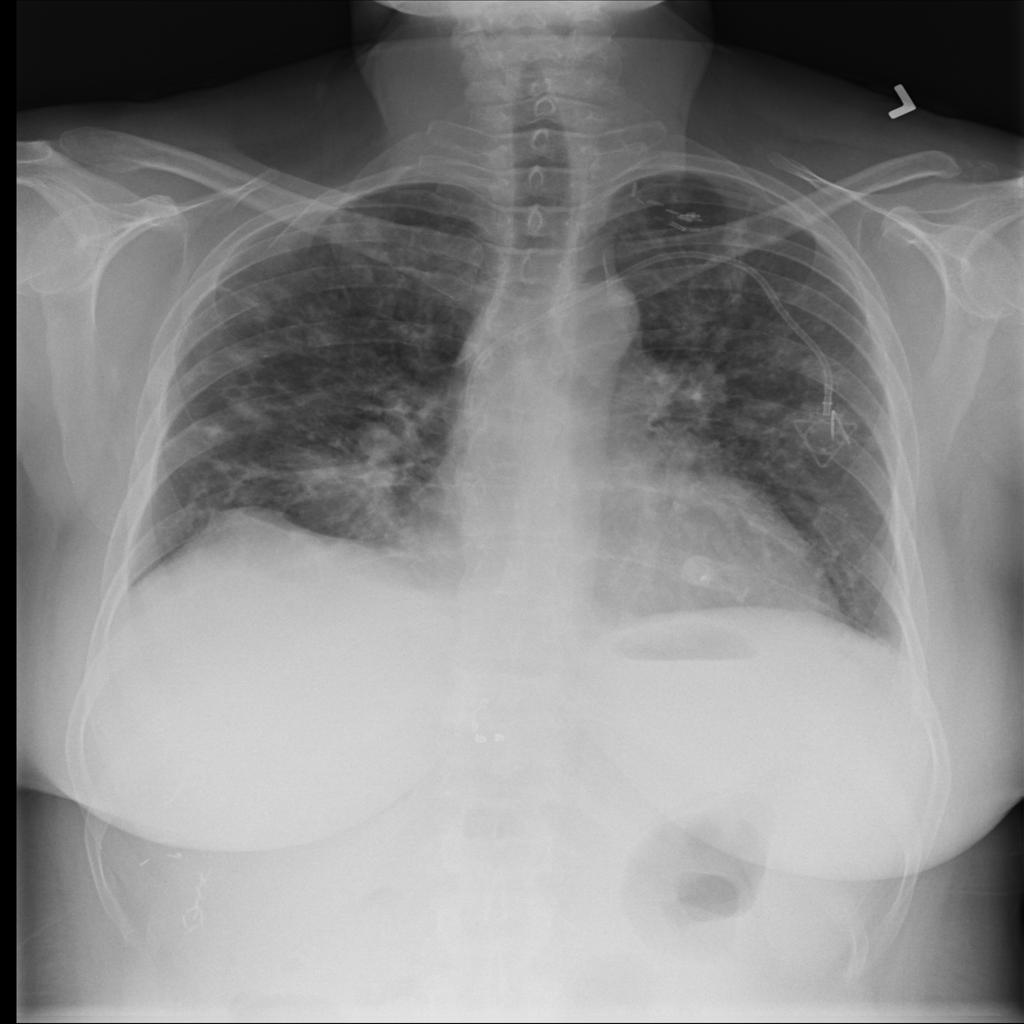nodule: (673, 541, 728, 606)
